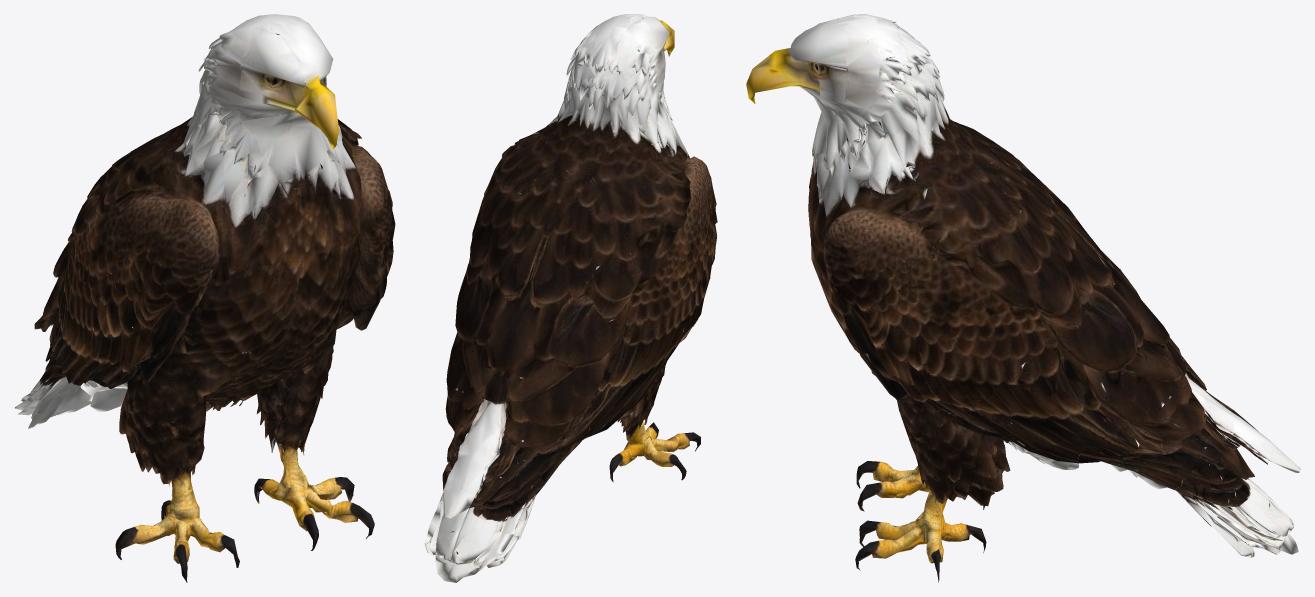
Rendered from eagle.glb.
3 views of the same model, side by side, from view 1: azimuth 30°, elevation 25°; view 2: azimuth 150°, elevation 25°; view 3: azimuth 270°, elevation 25° (orthographic). The views are drawn at different scales.
Parts seen in each view (by area): view 1: eagle; view 2: eagle; view 3: eagle.
Boxes of the visible parts, x1=… form: eagle: x1=15, y1=14, x2=395, y2=582; eagle: x1=424, y1=14, x2=717, y2=582; eagle: x1=746, y1=14, x2=1300, y2=582.
Size of the model in its own units: 0.404 by 0.7973 by 0.7575.
1 material, 1 textured.
